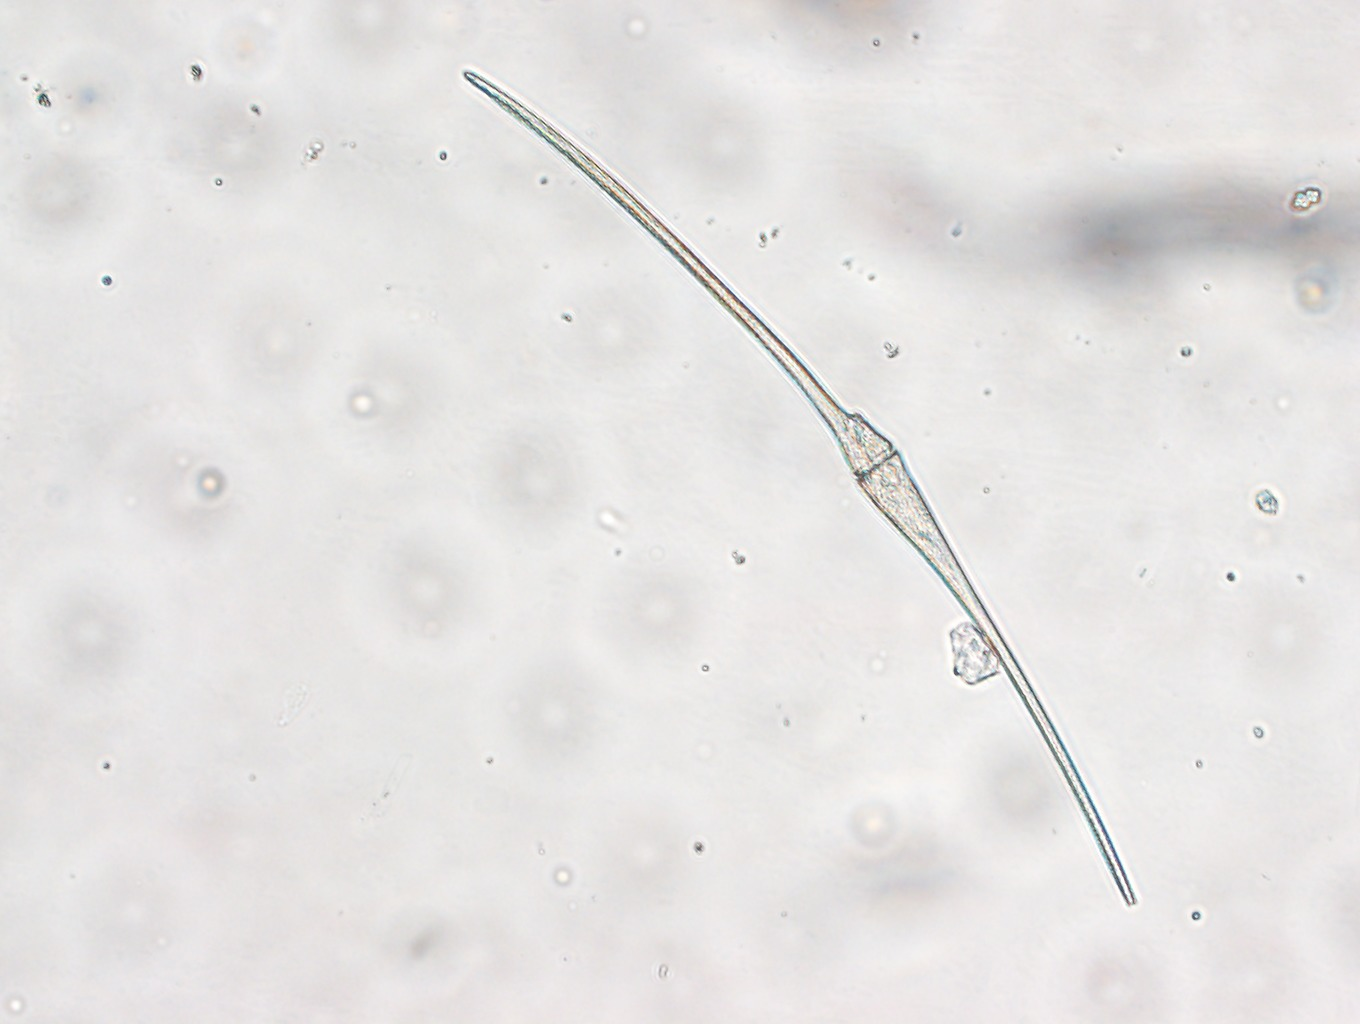ceratium fusus: (458, 68, 1137, 910)
